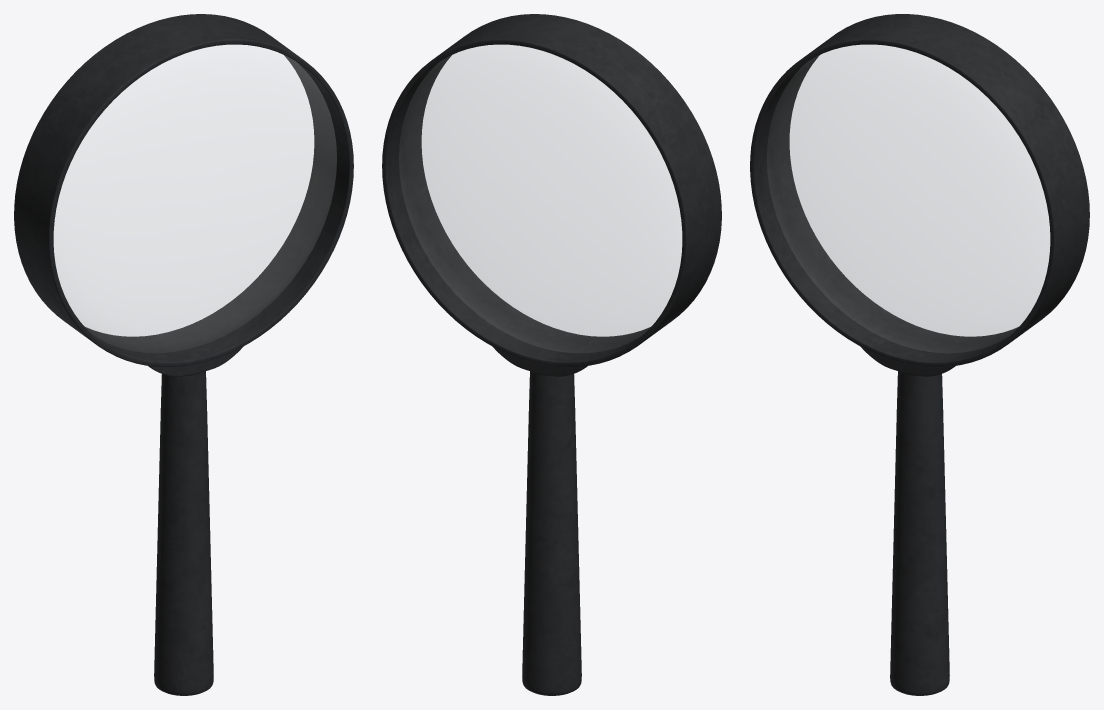
Rendered from magnifying_glass_01.glb.
3 views of the same model, side by side, from view 1: azimuth 30°, elevation 25°; view 2: azimuth 150°, elevation 25°; view 3: azimuth 330°, elevation 25° (orthographic).
Visible parts, largest first — view 1: magnifying_glass_01; view 2: magnifying_glass_01; view 3: magnifying_glass_01.
Boxes of the visible parts, x1,y1,x2,y2 form: magnifying_glass_01: [14, 14, 353, 695]; magnifying_glass_01: [382, 14, 721, 695]; magnifying_glass_01: [750, 14, 1089, 695].
Bounding box in the file's own units: 0.1321 × 0.2716 × 0.0267.
2 materials, 1 textured.
